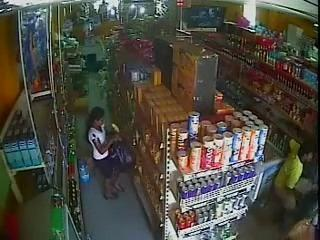Normal: (275, 135, 314, 227)
shoplifting: (84, 103, 125, 197)
